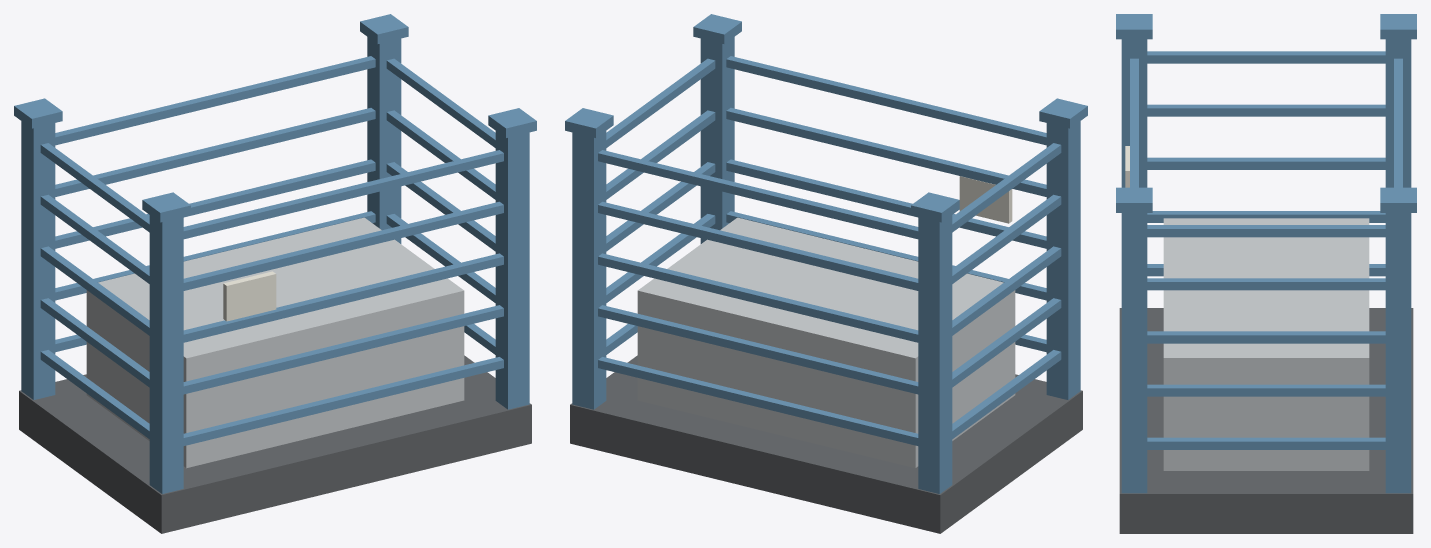
File: steel-stillage-cage.glb
3 renders of one model, left to right at view 1: azimuth 30°, elevation 25°; view 2: azimuth 150°, elevation 25°; view 3: azimuth 270°, elevation 25°, orthographic. The views are drawn at different scales.
Visible parts, largest first — view 1: machine-shop-and-factory-hall-stillage-cage; view 2: machine-shop-and-factory-hall-stillage-cage; view 3: machine-shop-and-factory-hall-stillage-cage.
Part boxes in pixels (x1,y1,x2,y2): machine-shop-and-factory-hall-stillage-cage: [14, 14, 536, 533]; machine-shop-and-factory-hall-stillage-cage: [565, 14, 1087, 533]; machine-shop-and-factory-hall-stillage-cage: [1116, 14, 1416, 533].
Size of the model in its own units: 1.22 by 1 by 0.8199.
